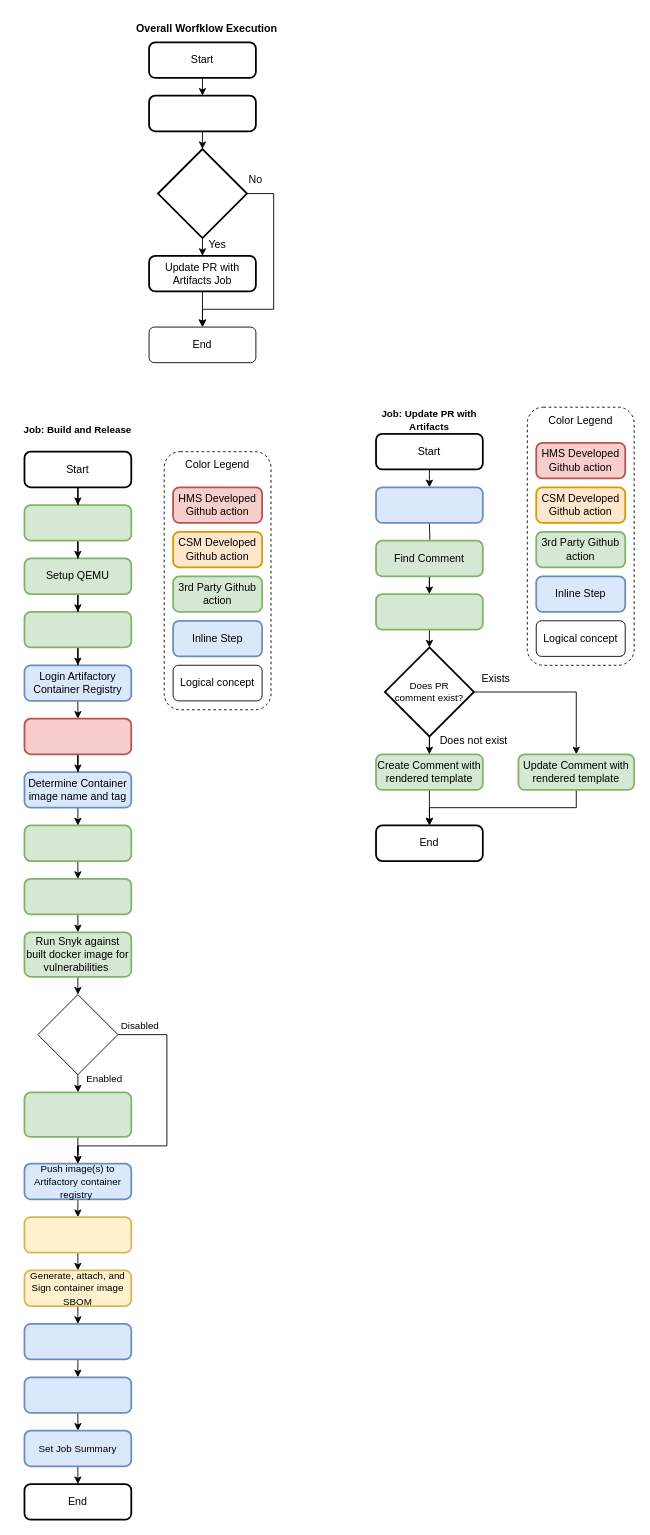
The diagram is 650 pixels wide and 1535 high, and some of its shapes have lost their labels. Here are the shapes that lost their labels. From the top down, the centre of each, then its label:
At (x=202, y=113): "Build and Release Job".
At (x=202, y=193): "Is this workflow run for a PR?".
At (x=77, y=522): "Checkout Git repostory".
At (x=429, y=504): "PR Comment prep".
At (x=77, y=629): "Setup Docker Buildx".
At (x=429, y=611): "Render comment template".
At (x=77, y=736): "Generate build metadata".
At (x=77, y=843): "Generate Docker metadata".
At (x=77, y=896): "Build Image".
At (x=77, y=1034): "Check if Trivy is enabled".
At (x=77, y=1114): "Run Trivy against built docker image for vulnerabilities".
At (x=77, y=1234): "Sign an image in Artifactory".
At (x=77, y=1341): "Job Summary Prep".
At (x=77, y=1394): "Render Job Summary".
